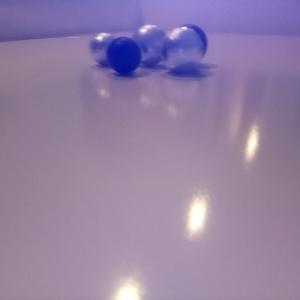alive_ball: (163, 27, 204, 73), (132, 24, 169, 66), (90, 32, 118, 66)
dead_ball: (107, 37, 141, 75), (176, 24, 208, 63)
